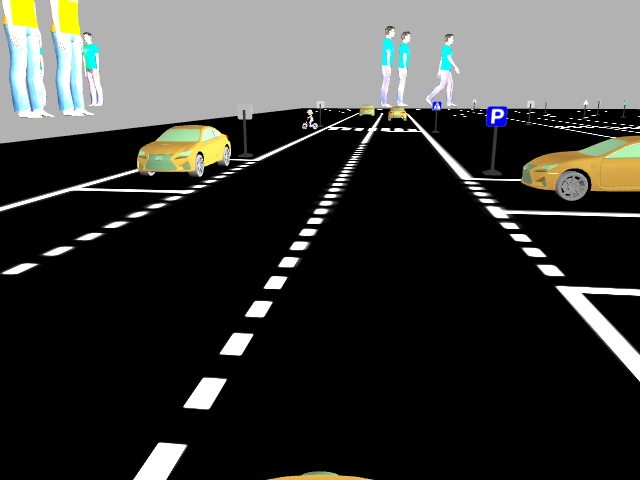Parking: (484, 106, 507, 125)
Pedestrian: (301, 108, 317, 130)
